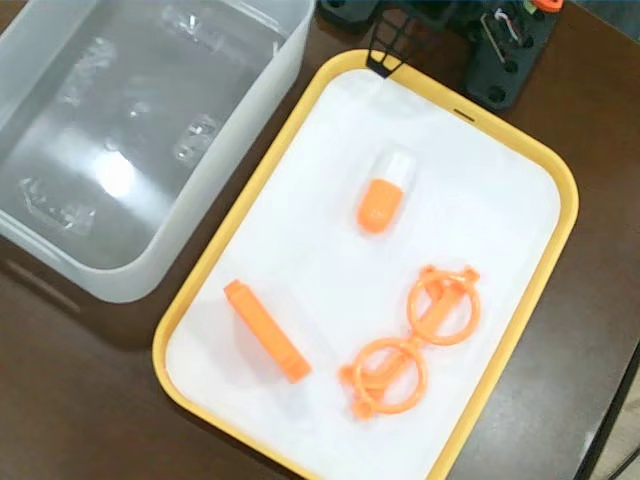pill: (355, 145, 413, 235)
